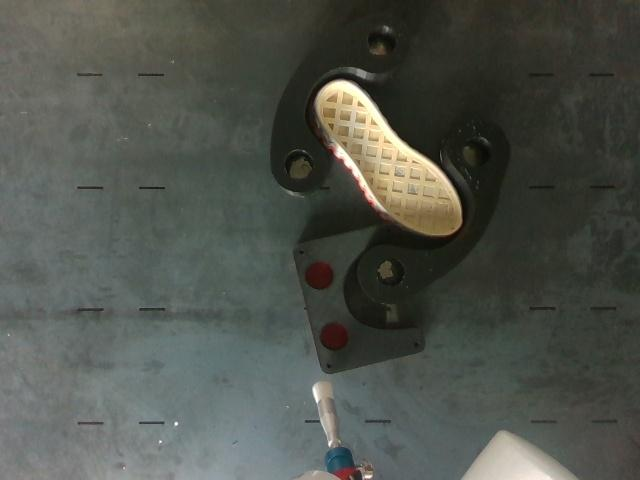shoes: (317, 83, 462, 236)
